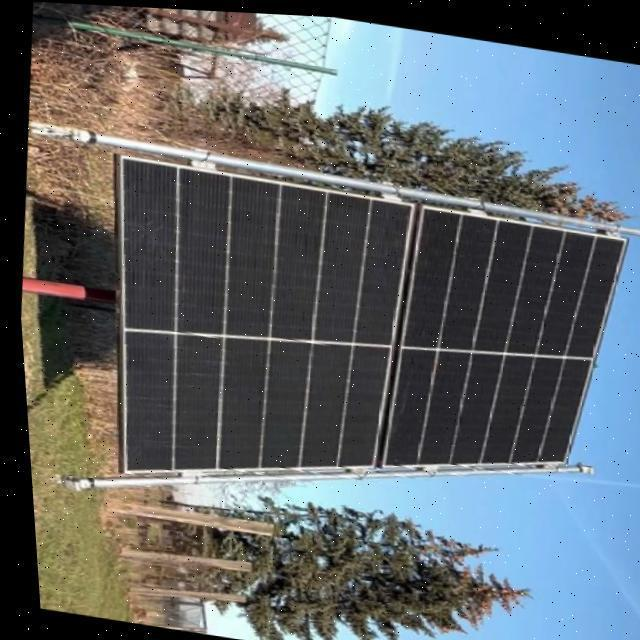Normal Solar Panel: (80, 150, 640, 546)
